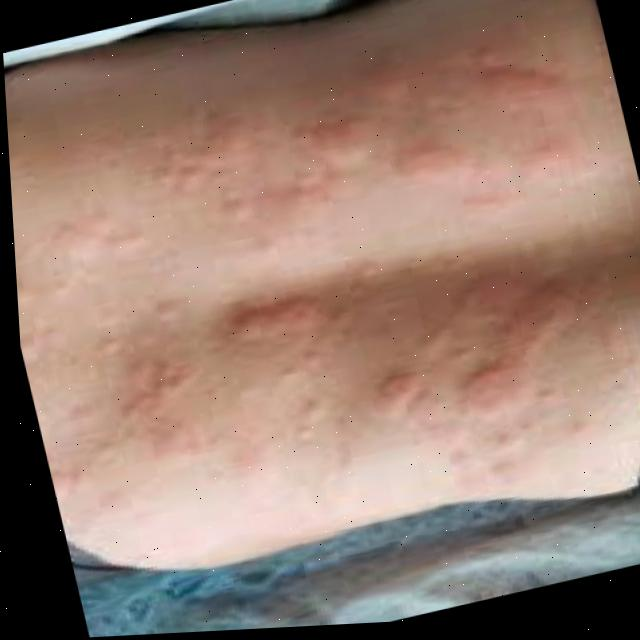Eczema: (30, 4, 640, 530)
